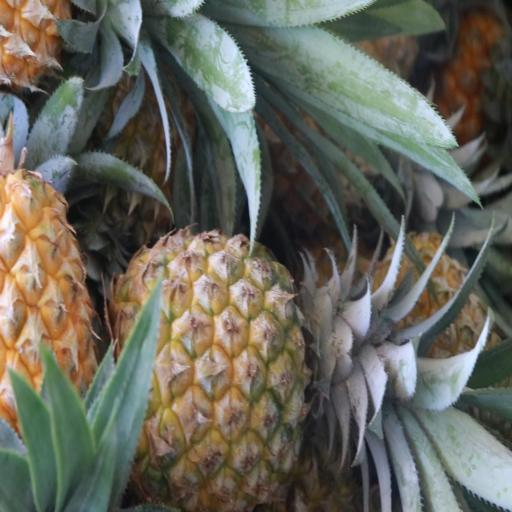Pineapple - v8 v1: (118, 229, 327, 508)
